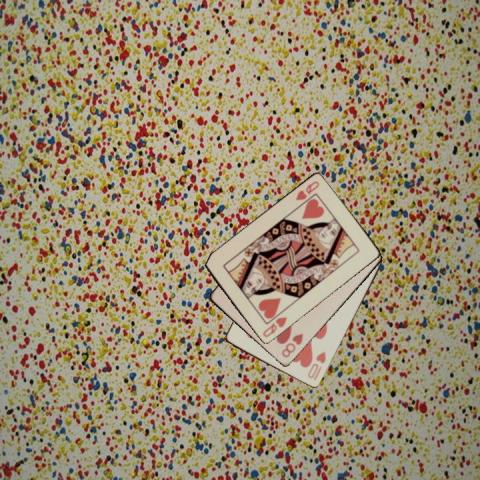10h: (305, 349, 327, 382)
8h: (278, 331, 304, 359)
Qh: (259, 314, 289, 339), (292, 178, 320, 202)
